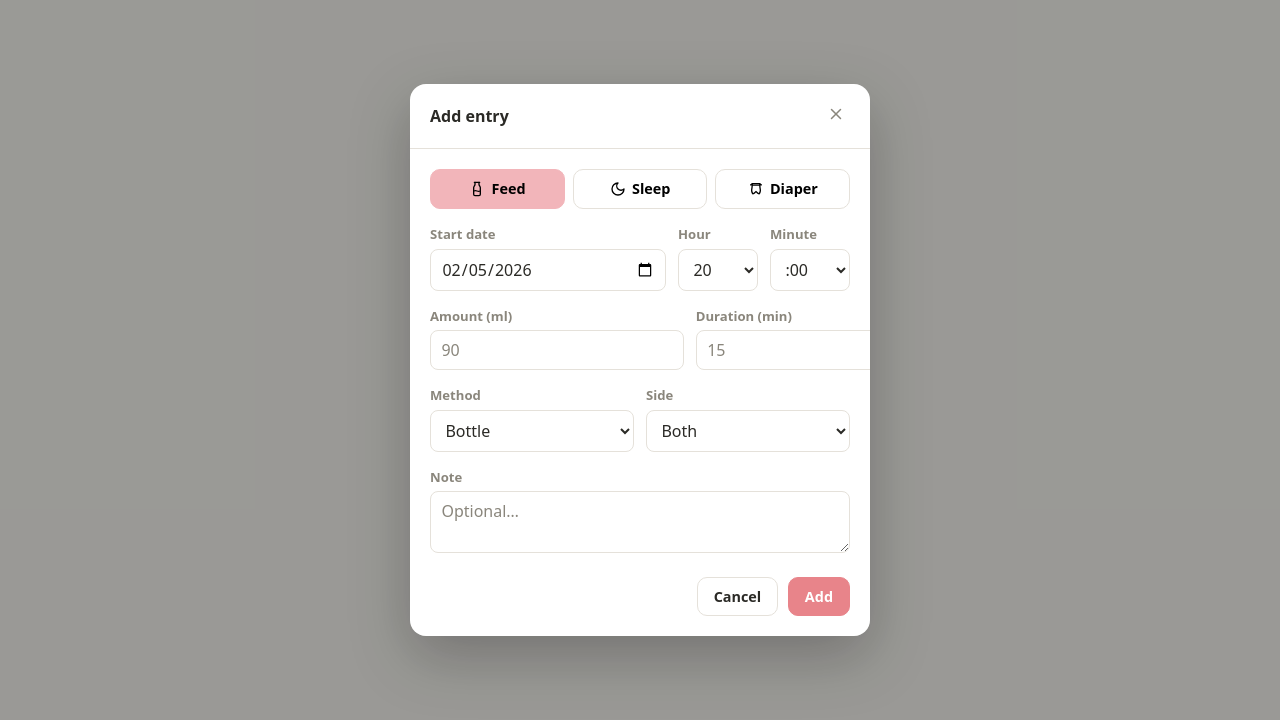
EntryForm › requires a start time
Clear the date field at (548, 270), box [430,248,666,290]
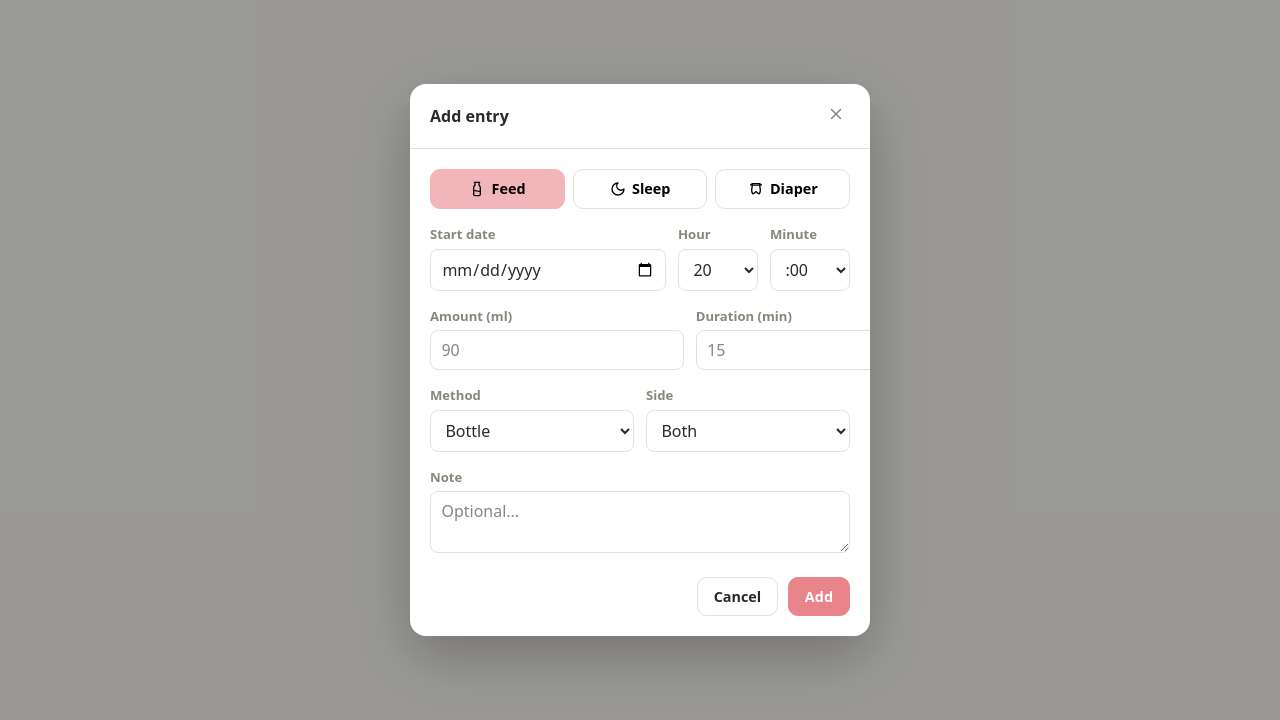
Submit the form, box [410,84,870,636]
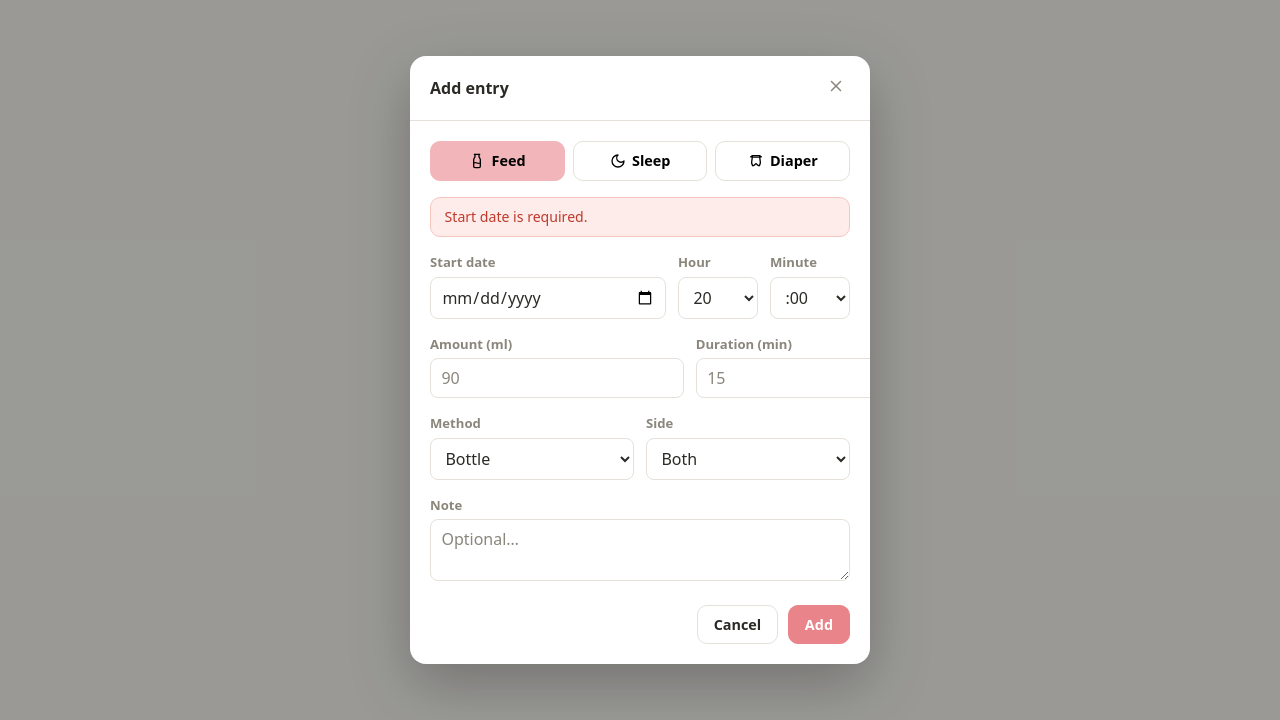
Expected: the text "Start date is required." is shown, [430,197,850,237]
